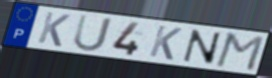4: (110, 21, 142, 57)
K: (146, 23, 184, 62), (35, 10, 72, 48)
M: (212, 31, 266, 73)
N: (182, 28, 223, 67)
U: (71, 13, 114, 53)
